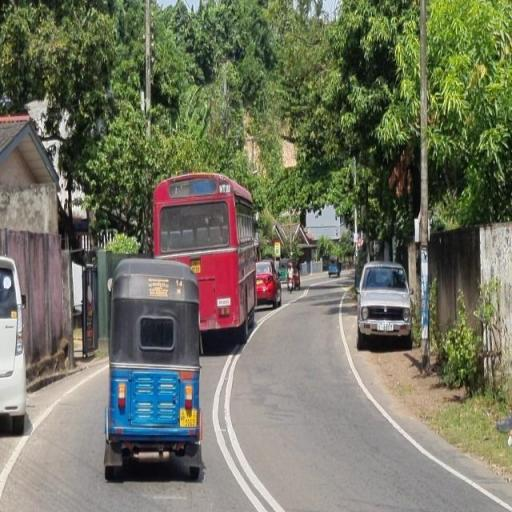double_white_line: (336, 290, 510, 510)
